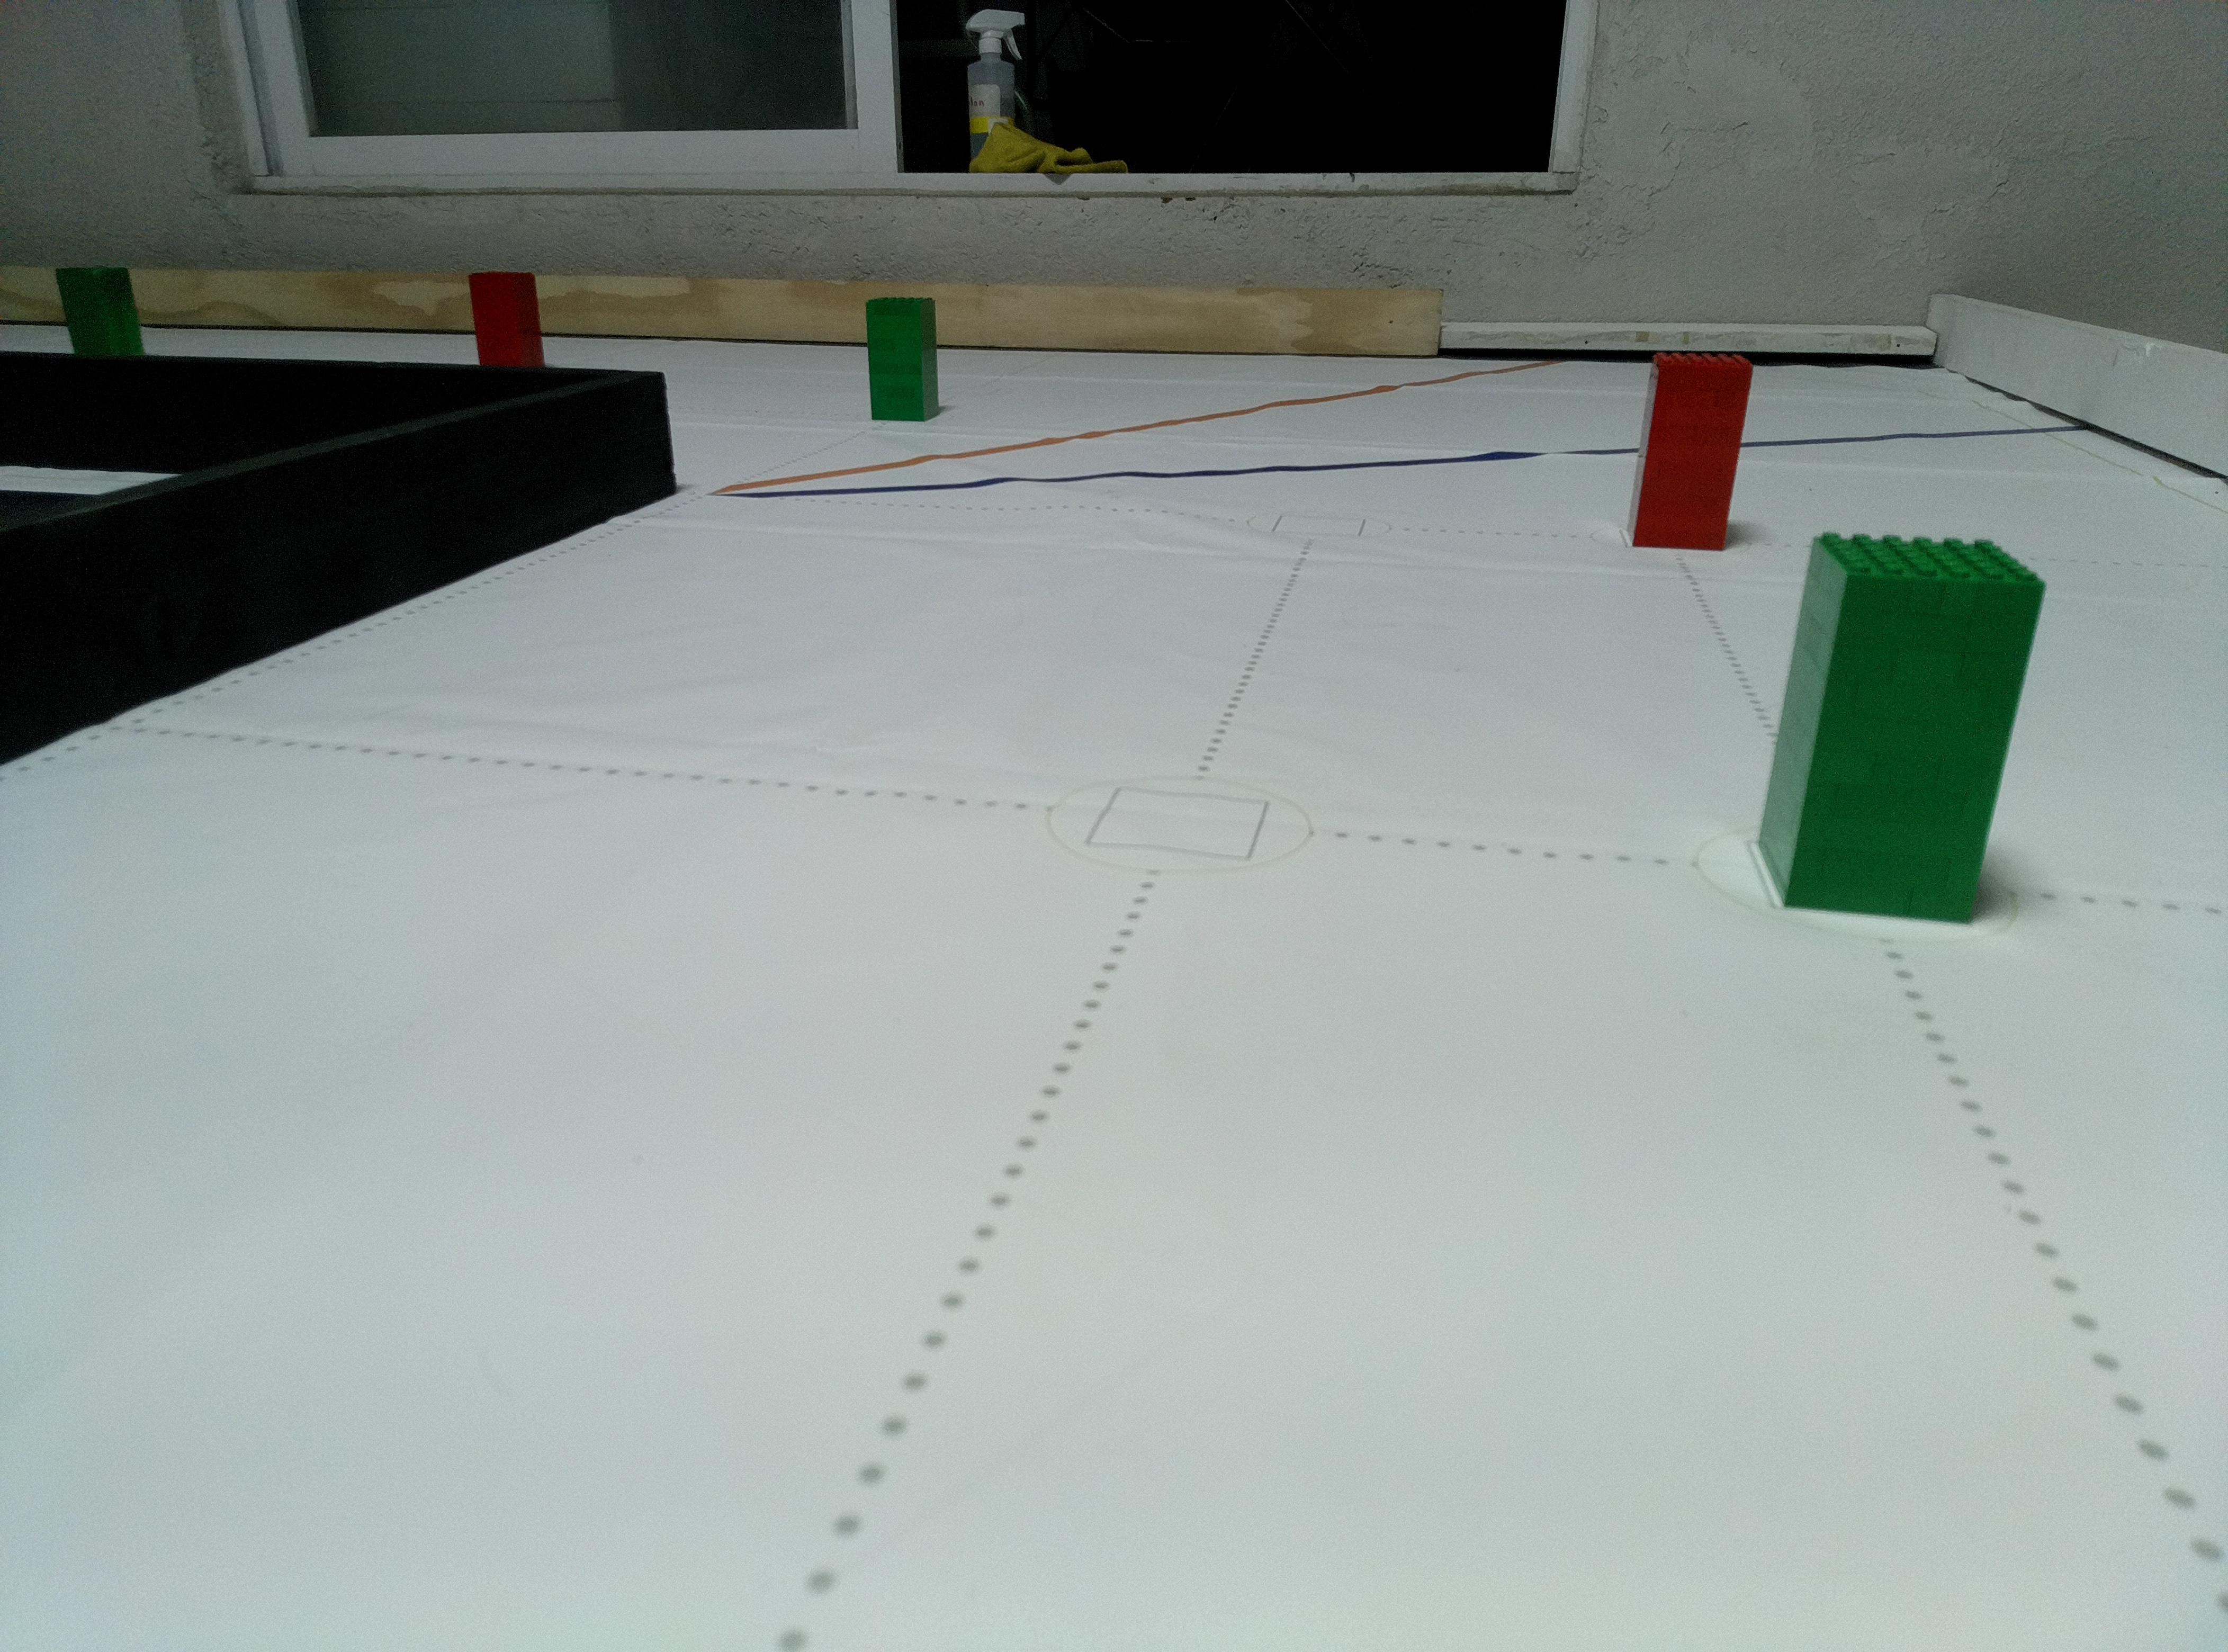greenbox: (1754, 536, 2053, 932), (862, 297, 940, 423)
redbox: (1622, 352, 1756, 555), (465, 271, 547, 370)
